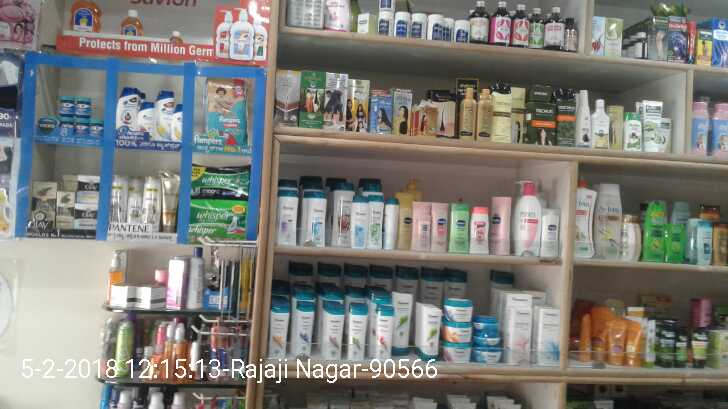beauty: (111, 86, 136, 139), (141, 170, 160, 232), (155, 87, 172, 142), (31, 184, 56, 221), (53, 189, 75, 231), (163, 176, 180, 230), (73, 202, 100, 233), (124, 180, 141, 226), (136, 94, 152, 140), (78, 177, 100, 202), (171, 100, 183, 140)
pharmacy: (201, 76, 250, 146), (187, 198, 244, 239), (191, 164, 249, 199), (56, 95, 74, 118), (75, 98, 92, 119), (57, 117, 71, 137), (75, 121, 91, 138), (90, 120, 105, 136)
